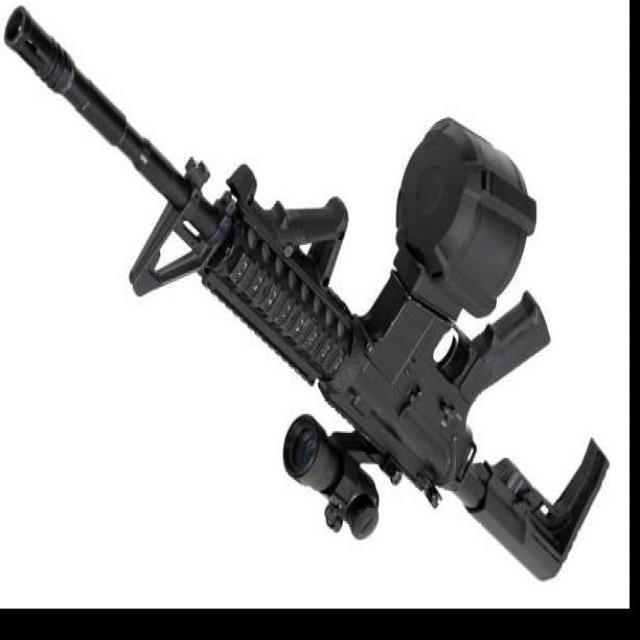weapon: (4, 6, 610, 582)
